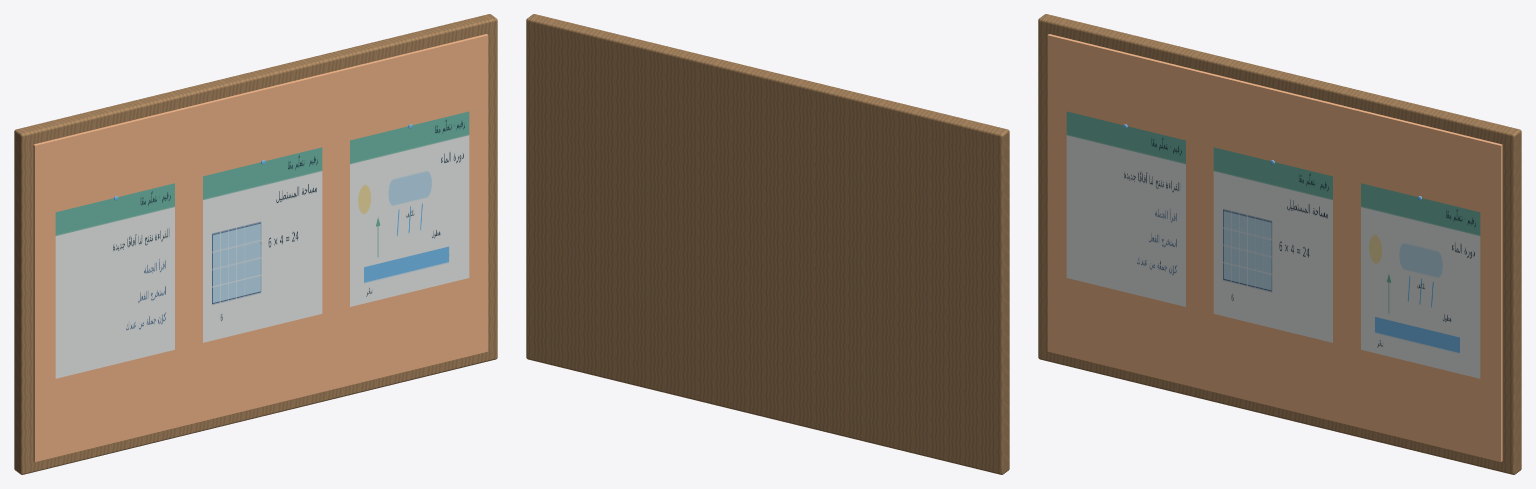
The model's file is notice_board.glb.
3 views of the same model, side by side, from view 1: azimuth 30°, elevation 25°; view 2: azimuth 150°, elevation 25°; view 3: azimuth 330°, elevation 25° (orthographic).
Parts seen in each view (by area): view 1: Cork_Surface, Notice_Frame, Notice_Print0, Notice_Print1, Notice_Print2; view 2: Notice_Frame; view 3: Cork_Surface, Notice_Frame, Notice_Print0, Notice_Print1, Notice_Print2.
Part boxes in pixels (<box>): Cork_Surface: <box>33,34,488,461</box>; Notice_Frame: <box>14,14,497,474</box>; Notice_Print0: <box>55,183,174,378</box>; Notice_Print1: <box>203,147,322,342</box>; Notice_Print2: <box>350,111,469,306</box>; Notice_Frame: <box>526,14,1009,474</box>; Cork_Surface: <box>1047,34,1502,461</box>; Notice_Frame: <box>1038,14,1521,474</box>; Notice_Print0: <box>1066,111,1185,306</box>; Notice_Print1: <box>1213,147,1332,342</box>; Notice_Print2: <box>1361,183,1480,378</box>.
Bounding box in the file's own units: 1.2 × 0.82 × 0.0515.
Materials: 6 (4 with a texture image).
